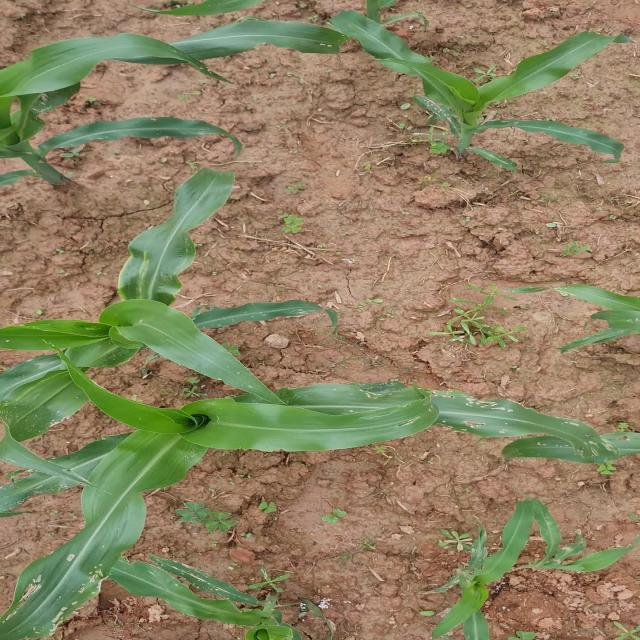maize: (18, 373, 640, 512), (0, 3, 287, 204), (356, 17, 631, 172), (30, 224, 326, 368), (50, 521, 308, 640), (412, 508, 640, 640), (542, 265, 640, 363)
weed: (444, 298, 512, 357)
